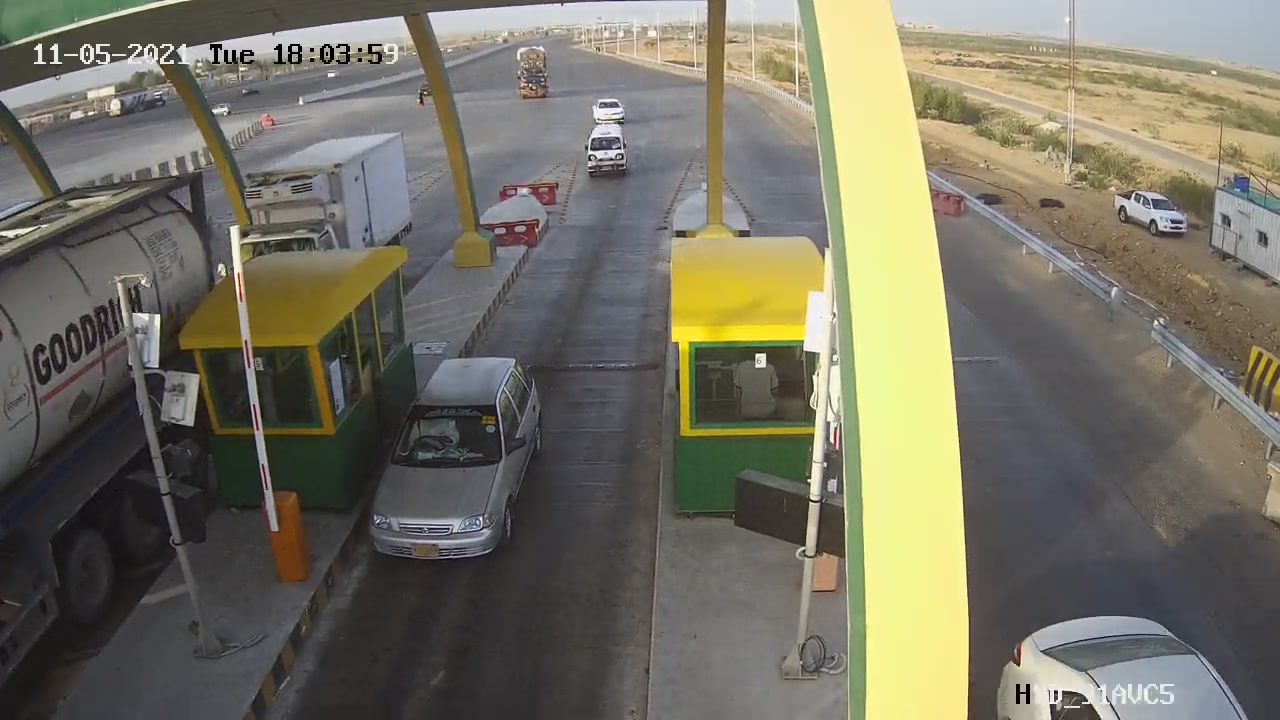F1: (352, 339, 572, 578)
